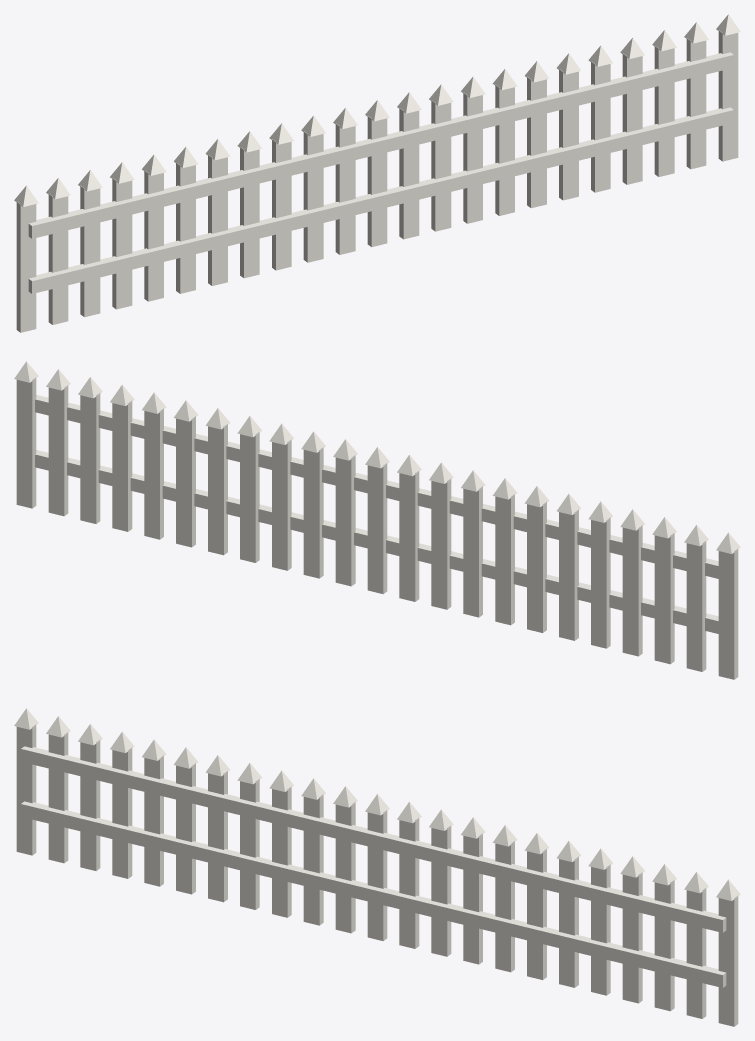
The model's file is t_fence_4.gltf.
The picture shows the model from 3 angles, top to bottom: view 1: azimuth 30°, elevation 25°; view 2: azimuth 150°, elevation 25°; view 3: azimuth 330°, elevation 25°; orthographic projection.
Parts seen in each view (by area): view 1: t_fence_4; view 2: t_fence_4; view 3: t_fence_4.
Part boxes in pixels (x1,y1,x2,y2): t_fence_4: [14, 14, 740, 332]; t_fence_4: [14, 361, 740, 679]; t_fence_4: [14, 708, 740, 1026].
Size of the model in its own units: 4.09 by 0.785 by 0.1003.
1 material, 1 textured.
